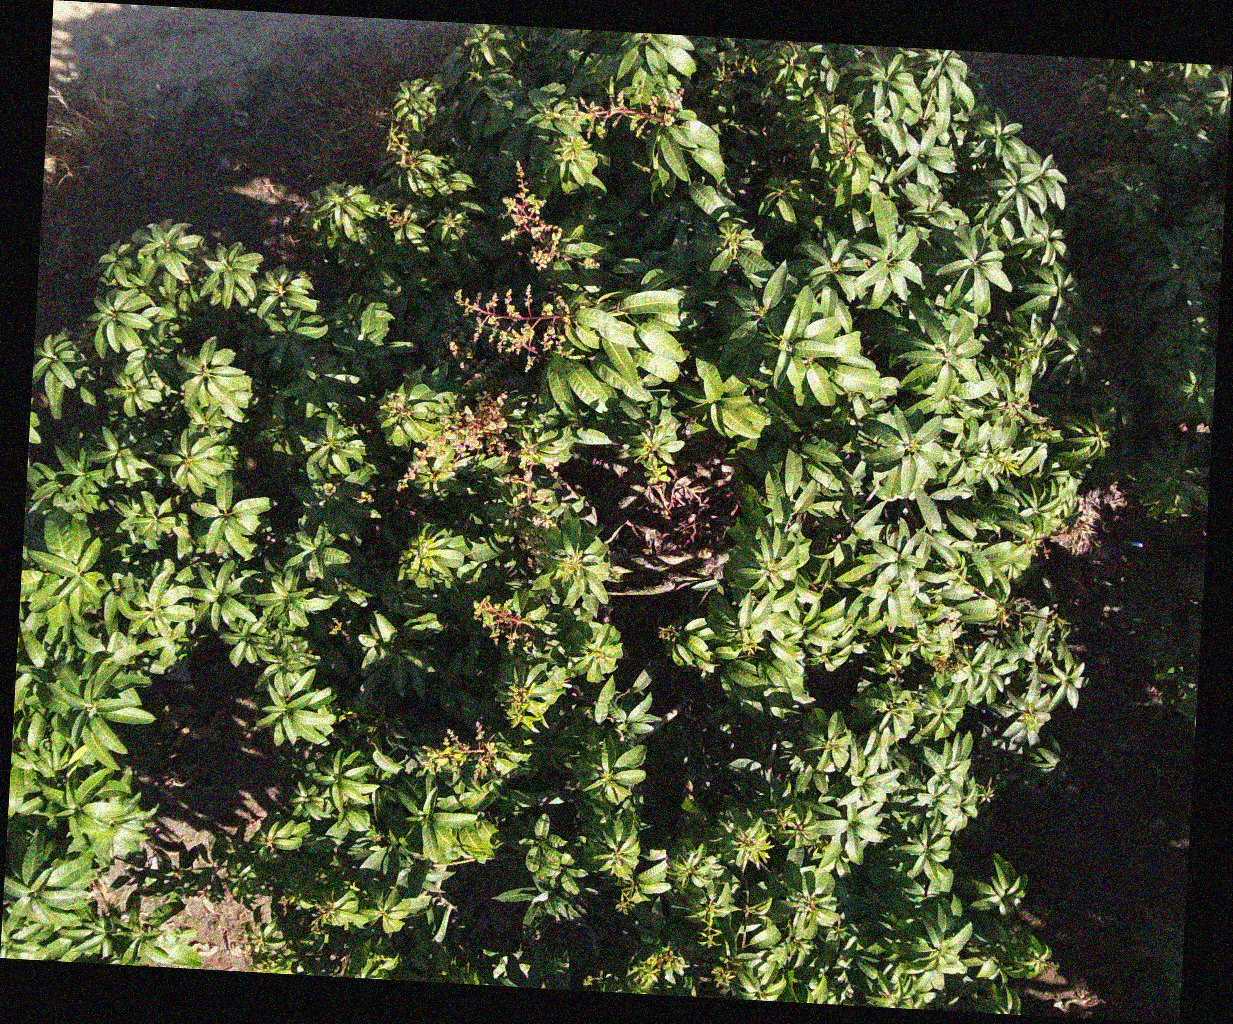flowers: (399, 389, 507, 494), (453, 284, 570, 371), (501, 162, 563, 270), (543, 94, 682, 138), (472, 597, 553, 653)
